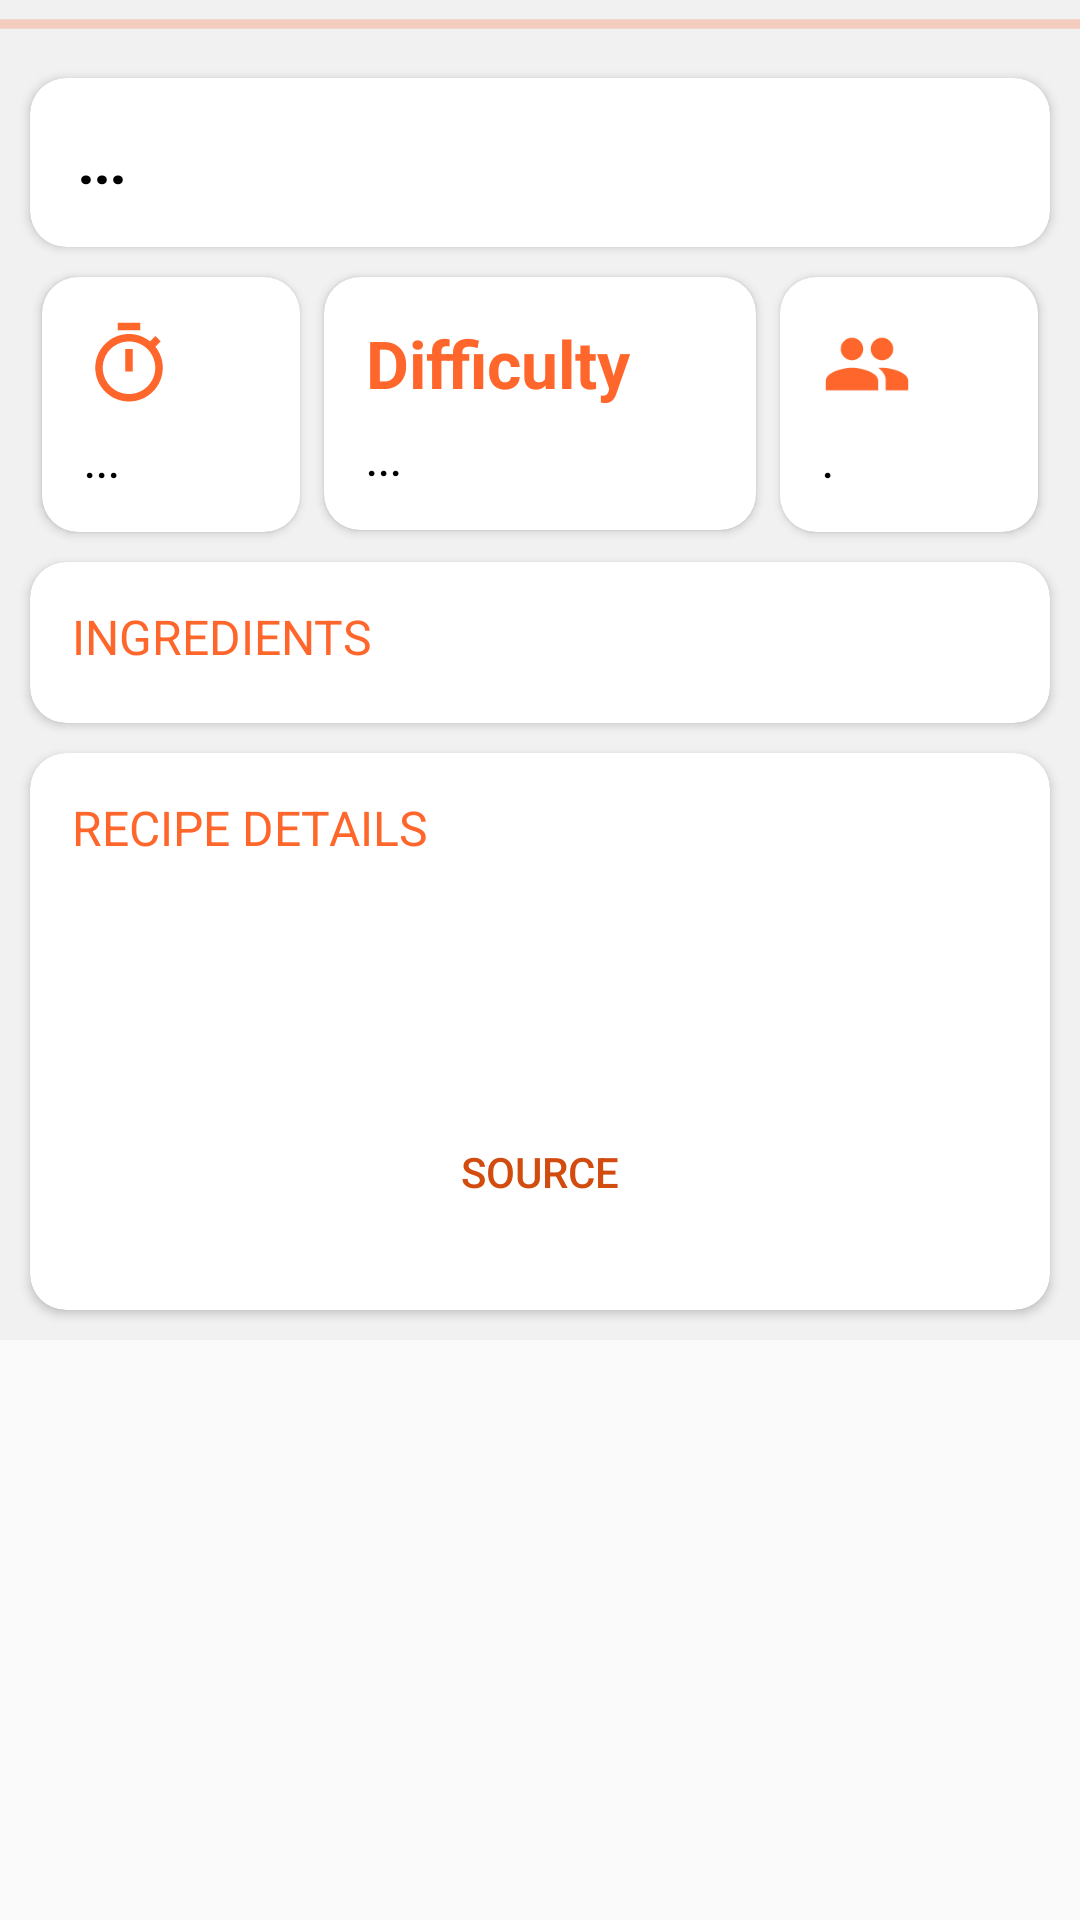

Where to tap for icons on this 1080 x 1920 app screen, as (x,y):
people: (867,364)
timer: (129,362)
